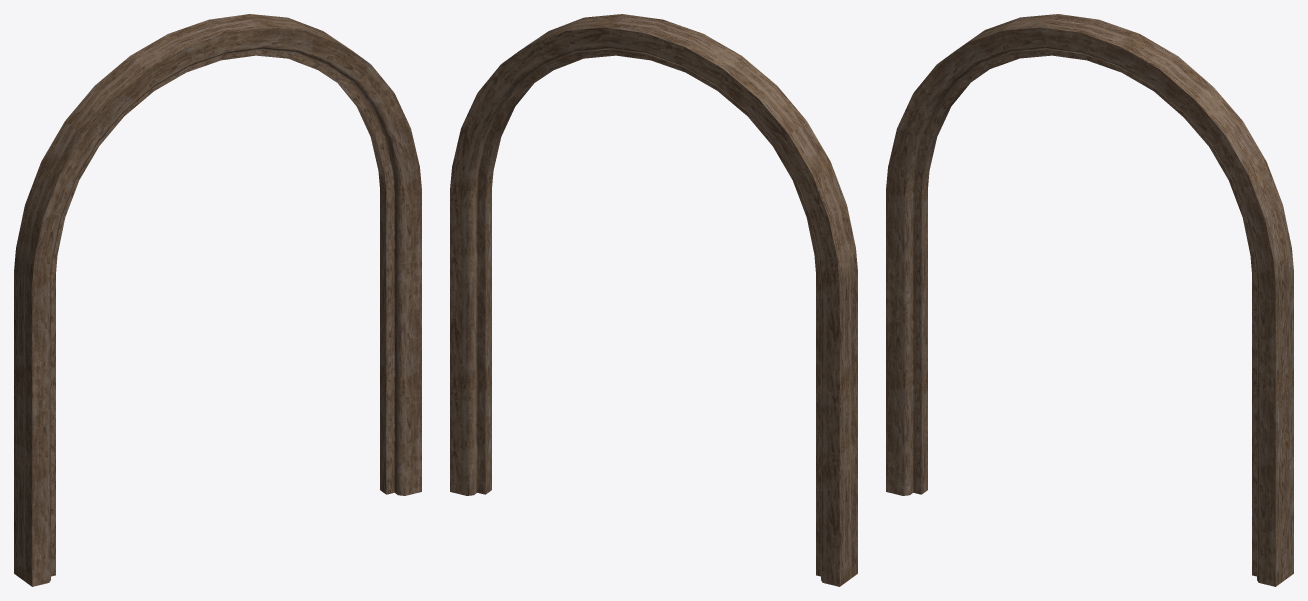
The picture shows the model from 3 angles, left to right: view 1: azimuth 30°, elevation 25°; view 2: azimuth 150°, elevation 25°; view 3: azimuth 330°, elevation 25°; orthographic projection.
Visible parts, largest first — view 1: SM_DungeonTeleportFrame_LOD0; view 2: SM_DungeonTeleportFrame_LOD0; view 3: SM_DungeonTeleportFrame_LOD0.
Part boxes in pixels (x1=…): SM_DungeonTeleportFrame_LOD0: x1=14, y1=14, x2=421, y2=586; SM_DungeonTeleportFrame_LOD0: x1=450, y1=14, x2=857, y2=586; SM_DungeonTeleportFrame_LOD0: x1=886, y1=14, x2=1293, y2=586.
Size of the model in its own units: 4.07 by 5.06 by 0.3301.
1 material, 1 textured.
